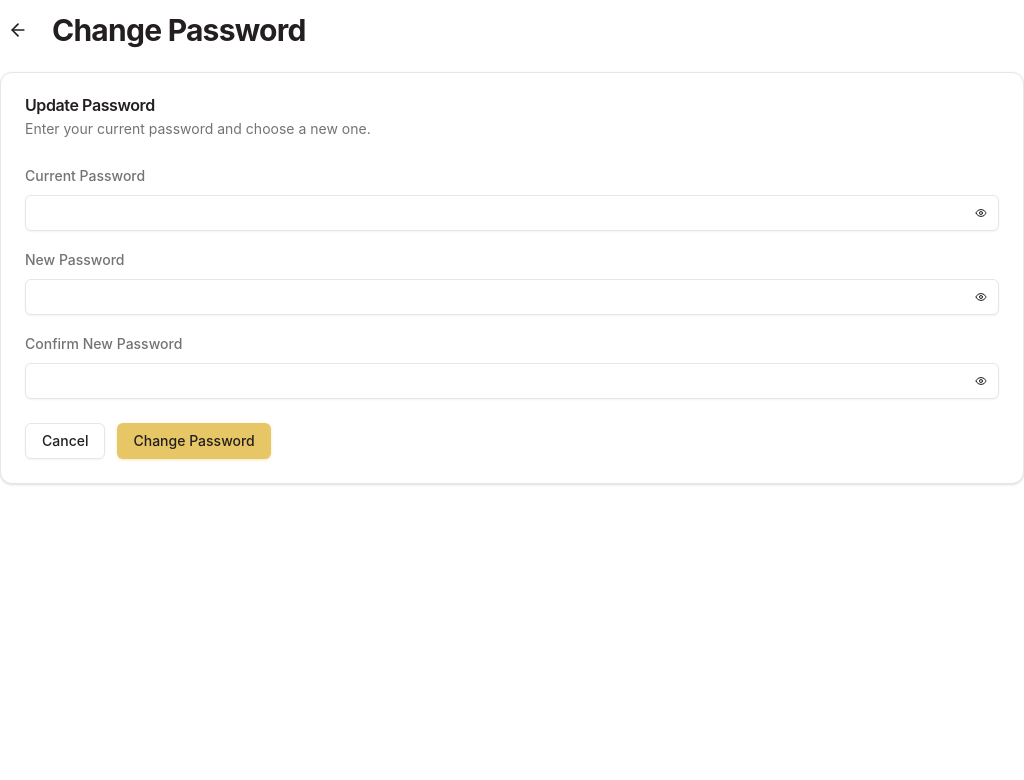
ChangePassword › should show validation error when password is too short
Type "short" into the password field with test id "password-new-input" at (512, 297), box [25, 279, 999, 315]
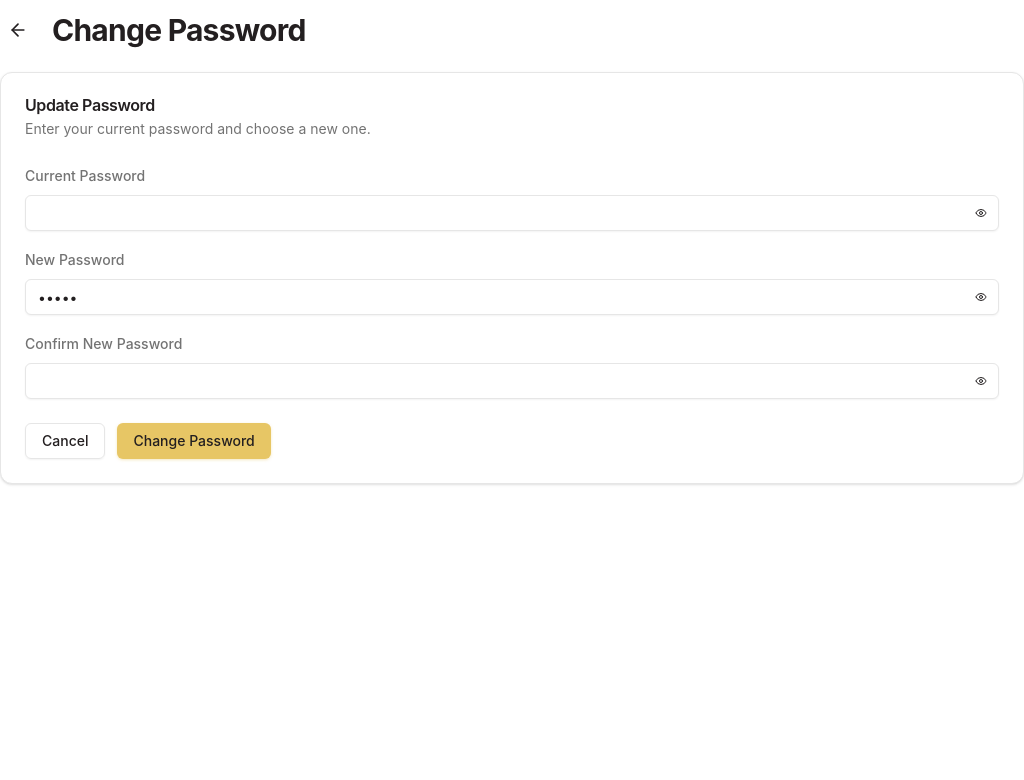
Type "short" into the password field with test id "password-confirm-input" at (512, 381), box [25, 363, 999, 399]
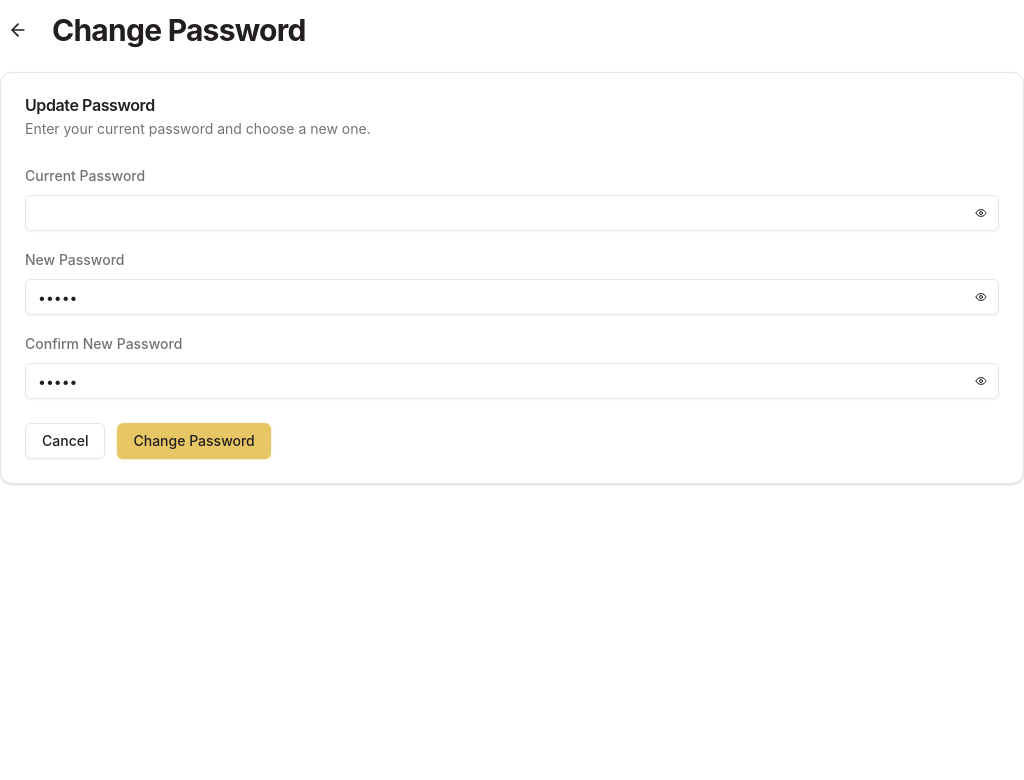
Click the button with test id "password-submit-button" at (194, 441), box [118, 423, 271, 459]
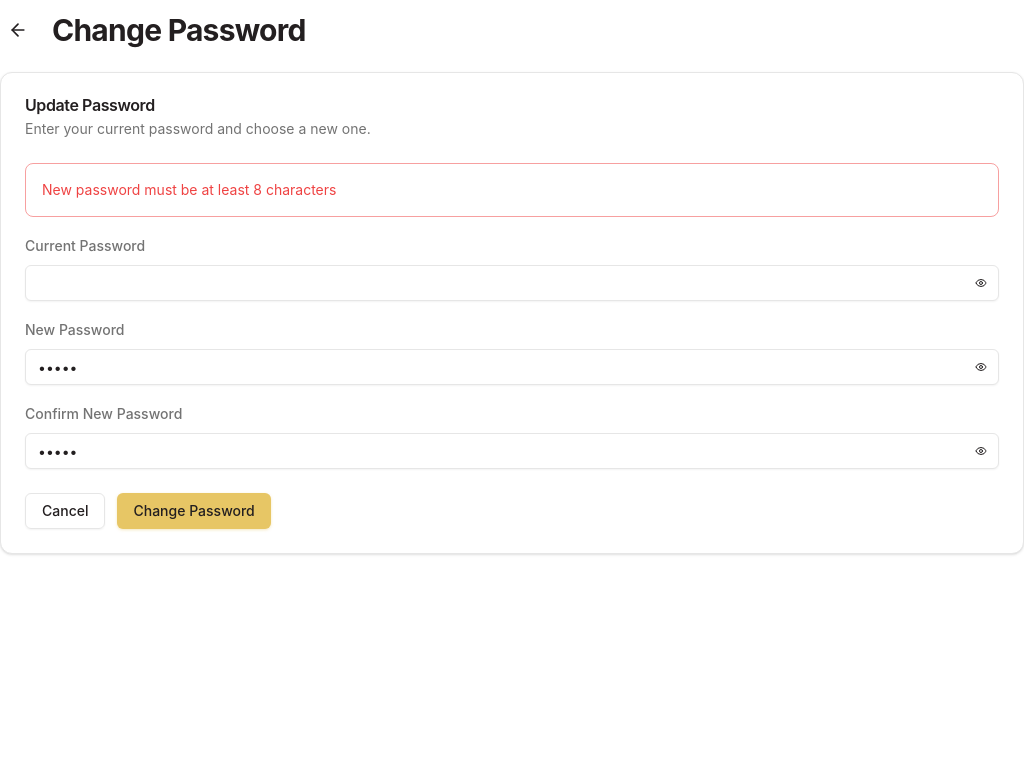
Result: the message "New password must be at least 8 characters" is shown at [25, 163, 999, 217]
Result: the text "New password must be at least 8 characters" is shown at [42, 181, 336, 198]
